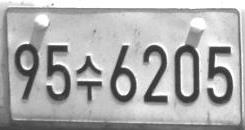0: (173, 44, 200, 104)
2: (142, 44, 168, 103)
5: (205, 46, 234, 105), (45, 44, 72, 102)
6: (109, 44, 137, 103)
9: (13, 43, 39, 100)
수: (76, 55, 102, 101)
